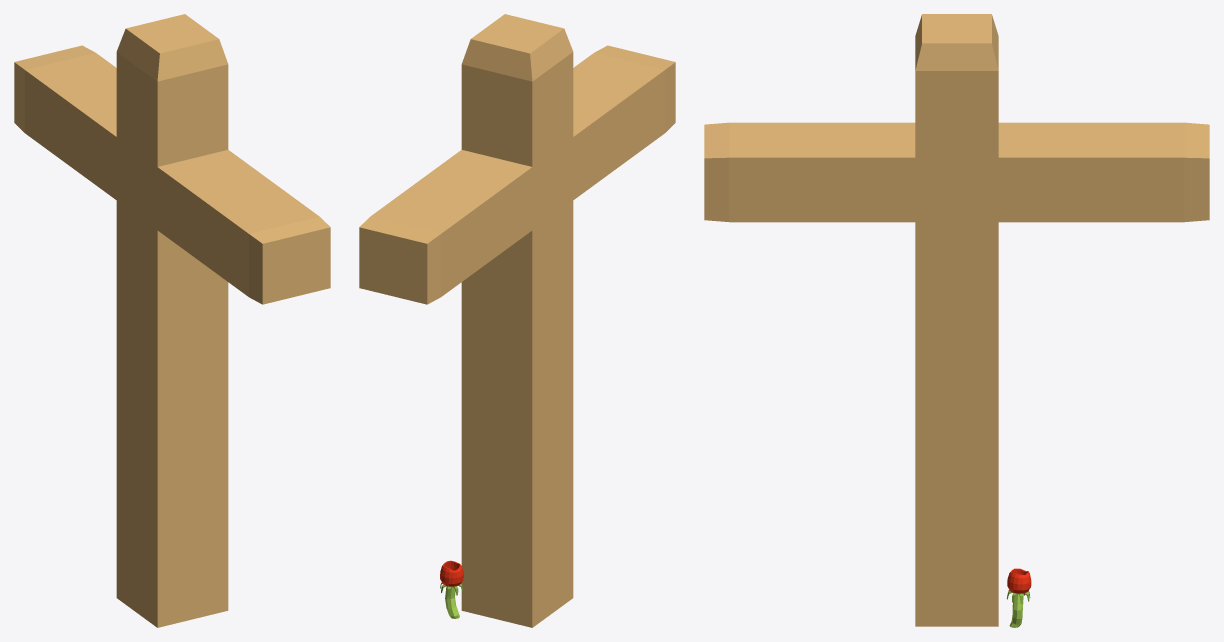
The model's file is grave.glb.
The picture shows the model from 3 angles, left to right: view 1: azimuth 30°, elevation 25°; view 2: azimuth 150°, elevation 25°; view 3: azimuth 270°, elevation 25°; orthographic projection.
Parts seen in each view (by area): view 1: GraveDefault; view 2: GraveDefault; view 3: GraveDefault.
Boxes of the visible parts, left/top/right/bottom form: GraveDefault: left=14, top=14, right=330, bottom=627; GraveDefault: left=359, top=14, right=675, bottom=627; GraveDefault: left=704, top=14, right=1209, bottom=627.
Size of the model in its own units: 0.1278 by 0.8572 by 0.6765.
Materials: 1 (1 with a texture image).
